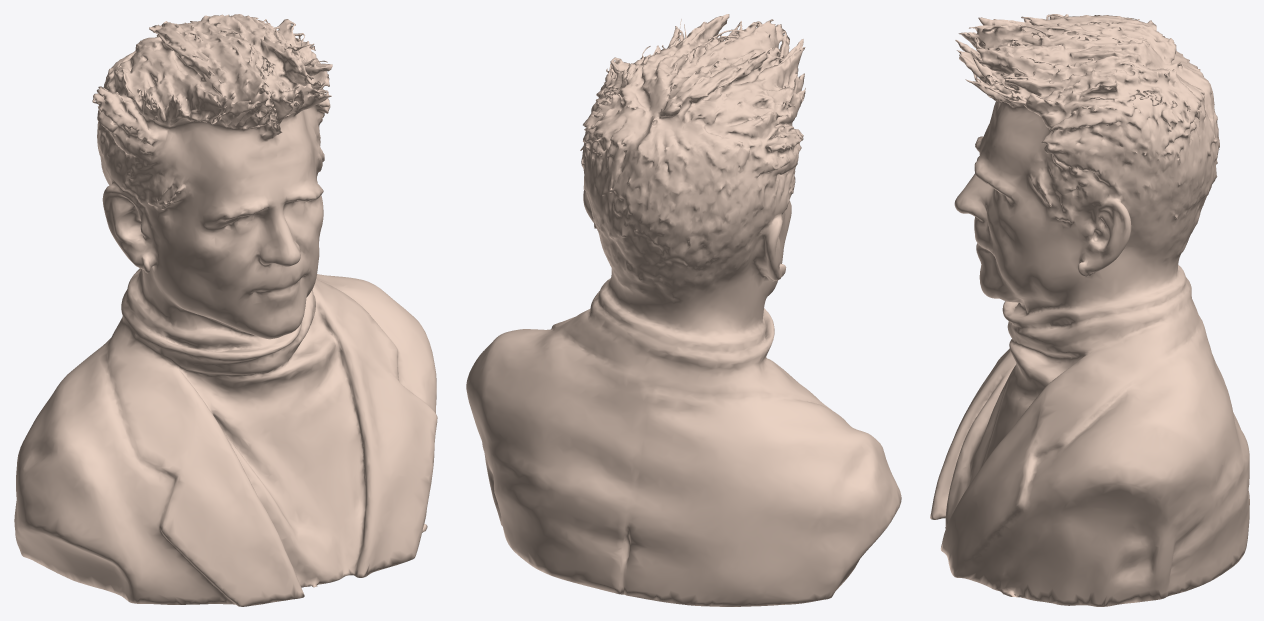
The picture shows the model from 3 angles, left to right: view 1: azimuth 30°, elevation 25°; view 2: azimuth 150°, elevation 25°; view 3: azimuth 270°, elevation 25°; orthographic projection. The views are drawn at different scales.
Visible parts, largest first — view 1: face; view 2: face; view 3: face.
Boxes of the visible parts, x1=… form: face: x1=14, y1=14, x2=437, y2=606; face: x1=466, y1=14, x2=901, y2=606; face: x1=930, y1=14, x2=1249, y2=606.
Bounding box in the file's own units: 1.56 × 1.85 × 1.09.
